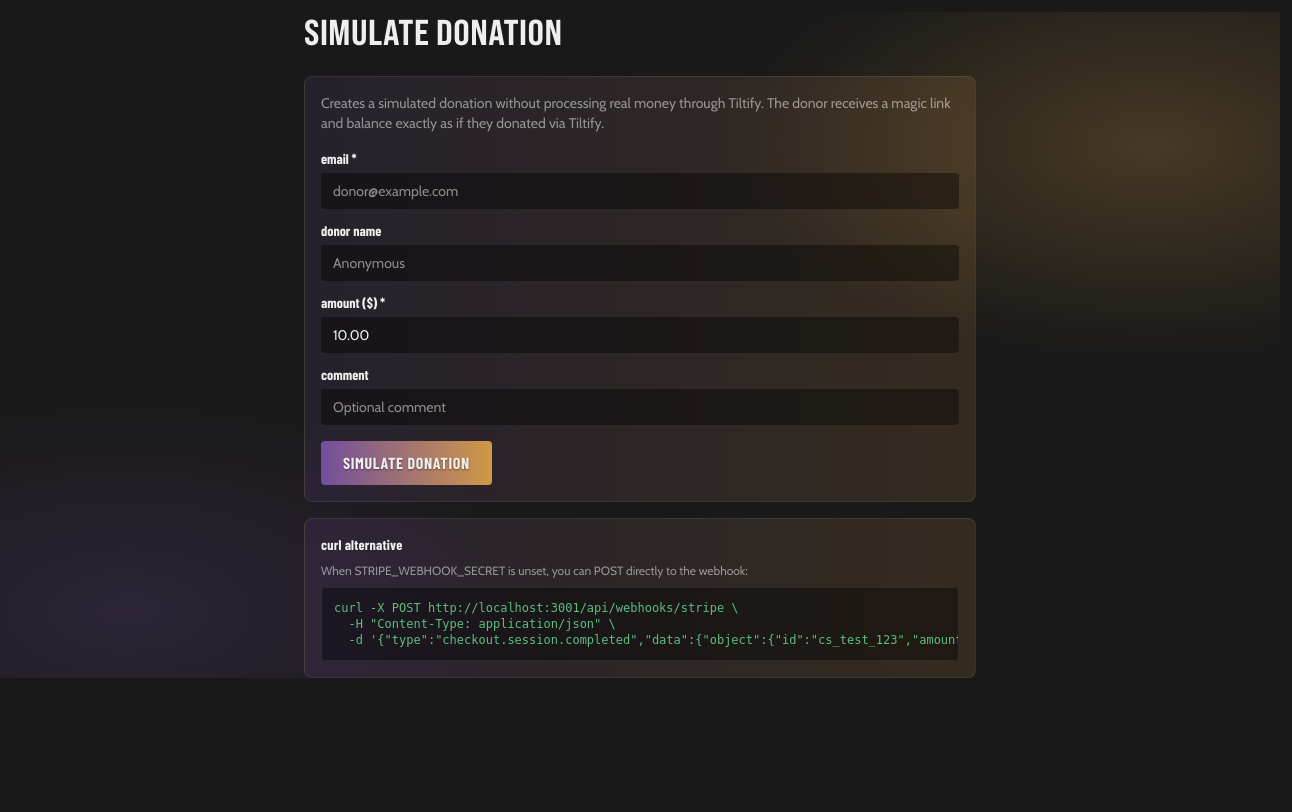
AdminSimulate › shows an error when the amount is below the minimum
The width and height of the screenshot is (1292, 812).
In the field with placeholder "donor@example.com": (640,191) [321, 173, 959, 209], type "alice@example.com"
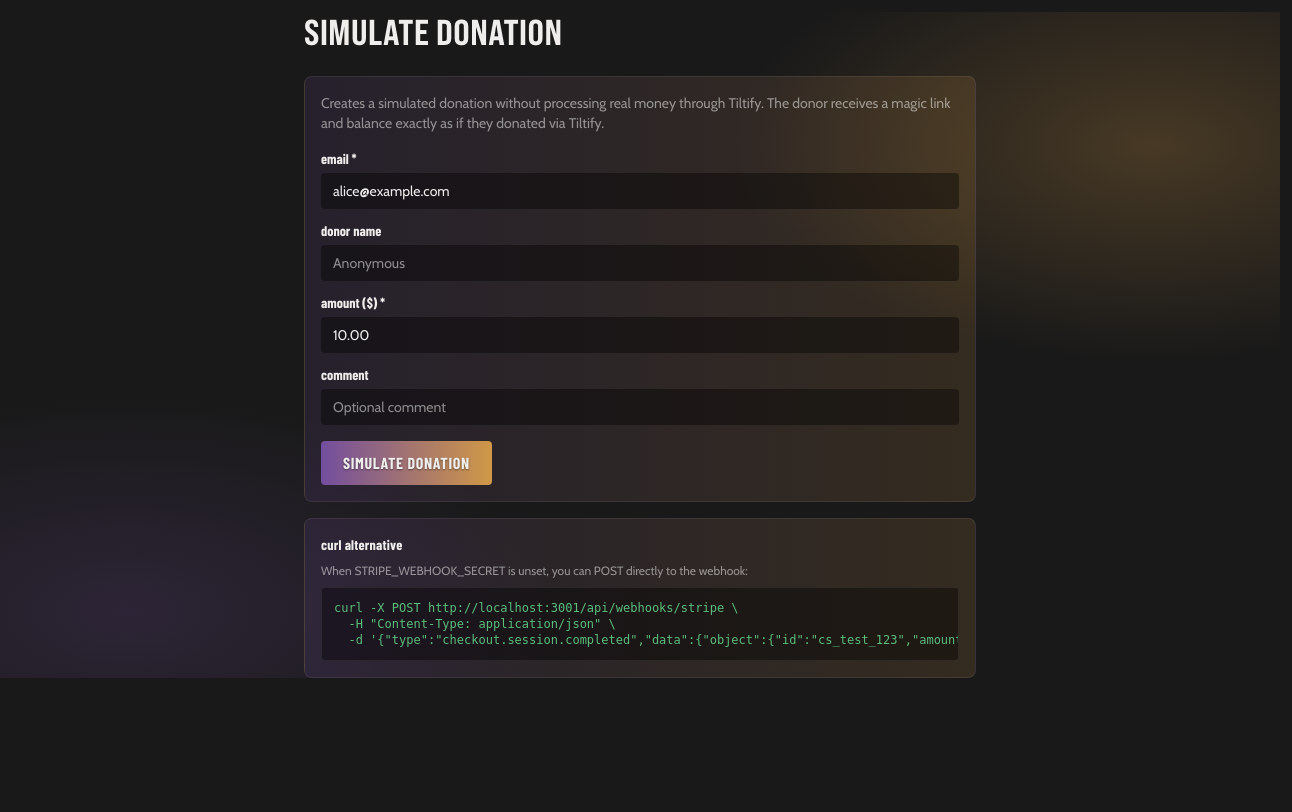
// Change amount to 0
Replace the text in the number field with "0": (640,335) [321, 317, 959, 353]
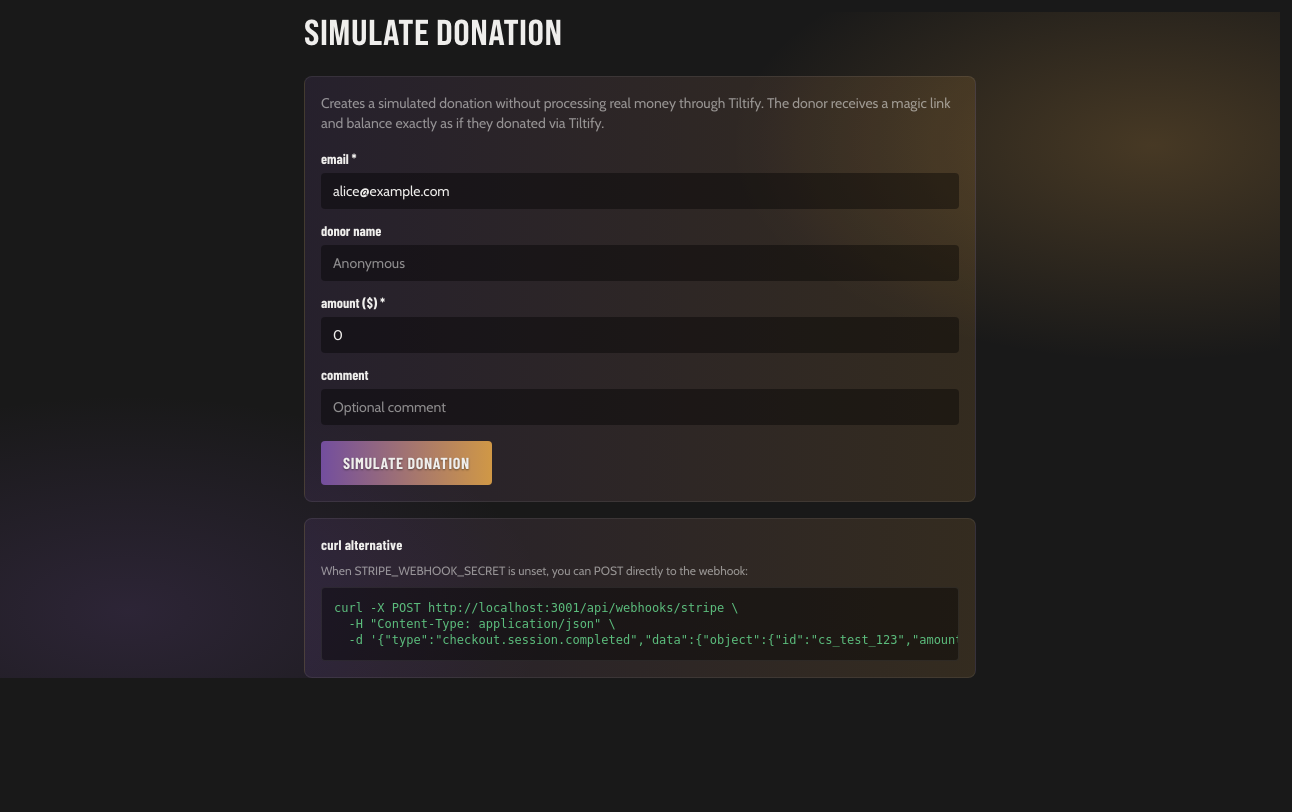
Click the button "simulate donation": (406,463) [321, 441, 492, 485]
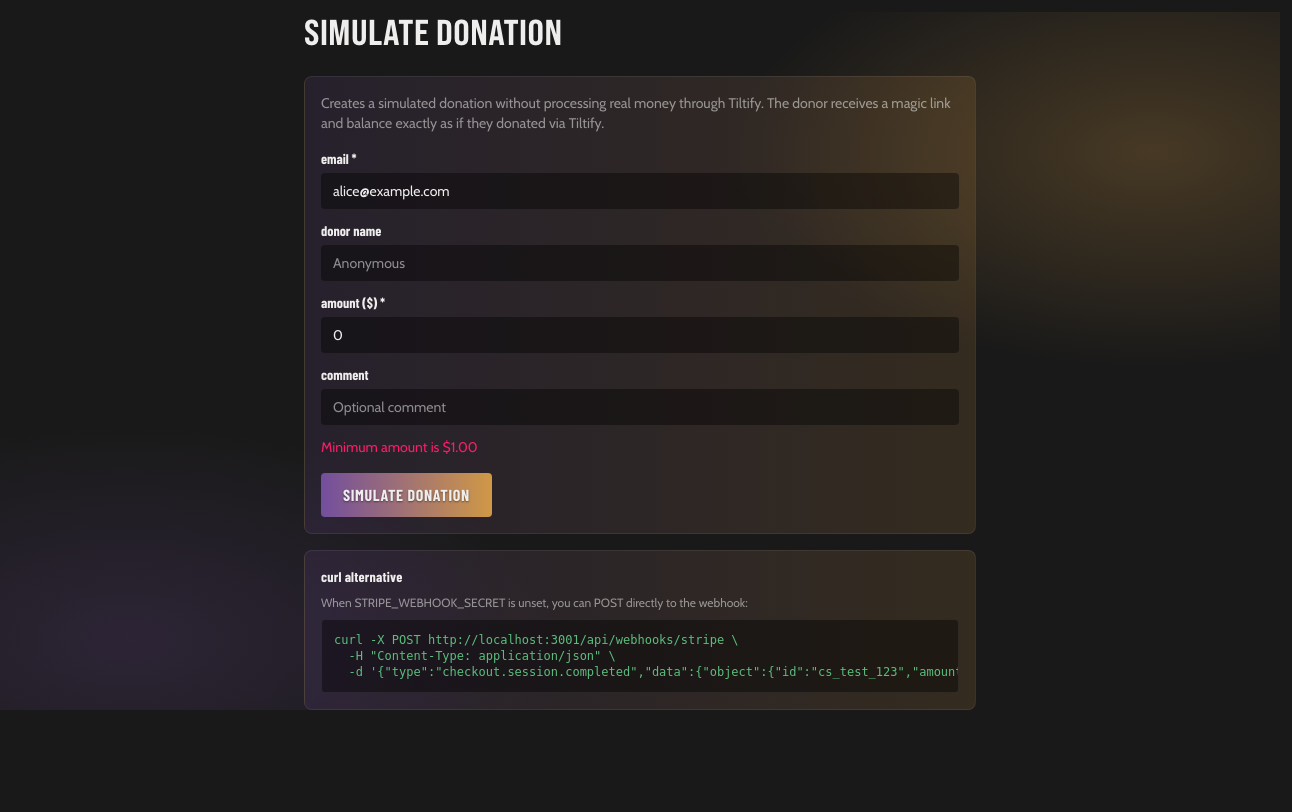
Expected: the text "Minimum amount is $1.00" is shown, [321, 438, 478, 456]
